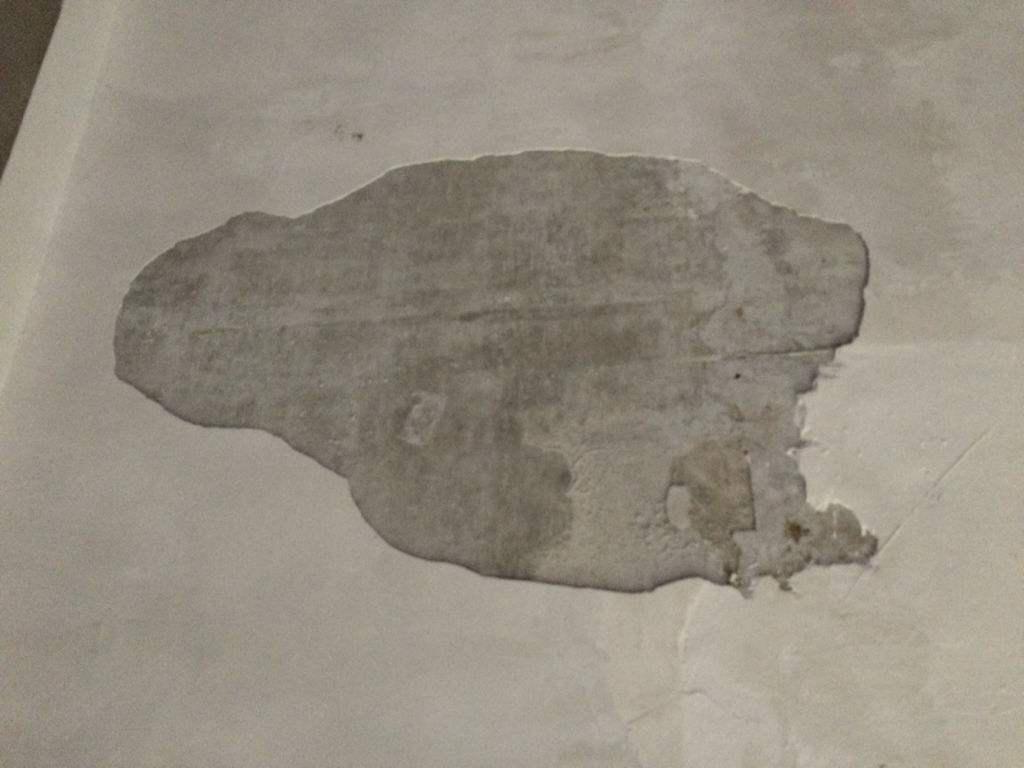Spalling: (112, 146, 881, 593)
